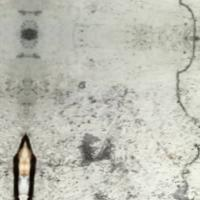crack: (153, 0, 199, 121)
